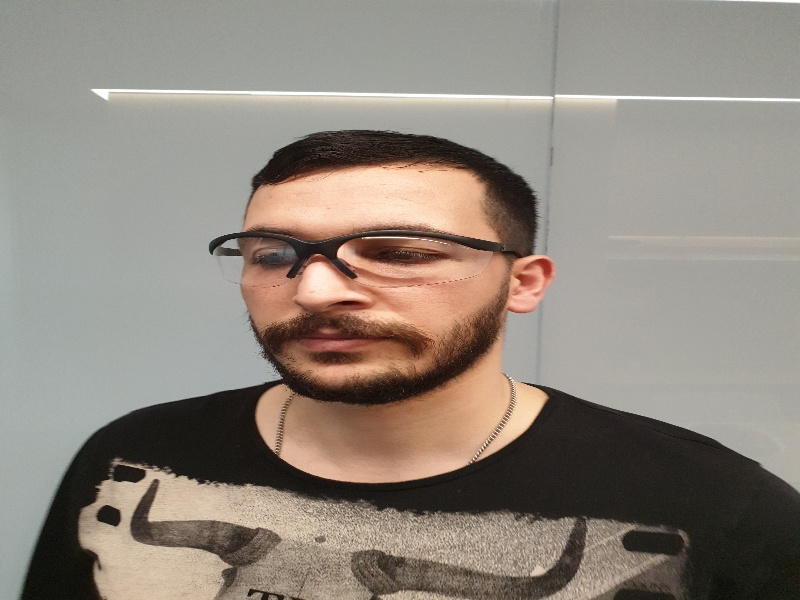Gozluk: (208, 230, 528, 290)
